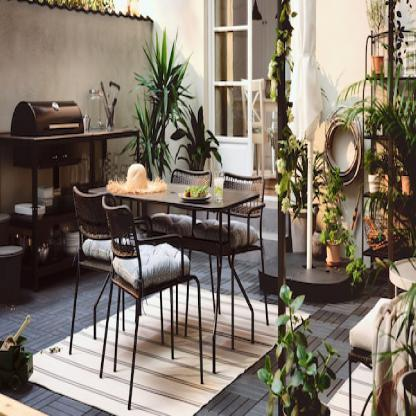chair: (96, 205, 200, 407), (200, 172, 267, 328), (59, 181, 117, 349), (144, 164, 214, 242)
